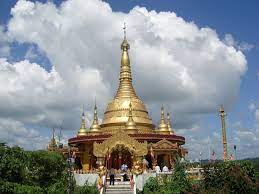Temple: (31, 23, 198, 180)
